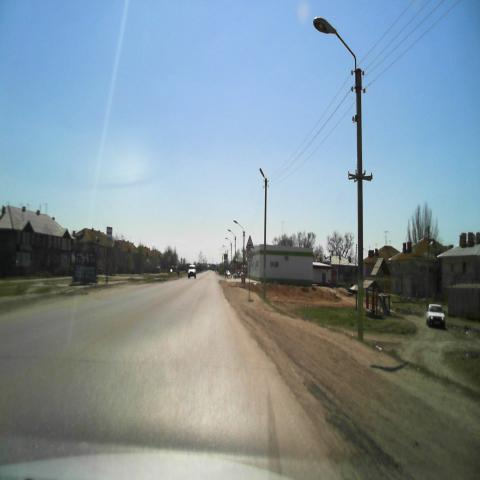1_17: (244, 236, 254, 248)
3_24: (246, 250, 253, 261)
5_16: (106, 226, 112, 242)
